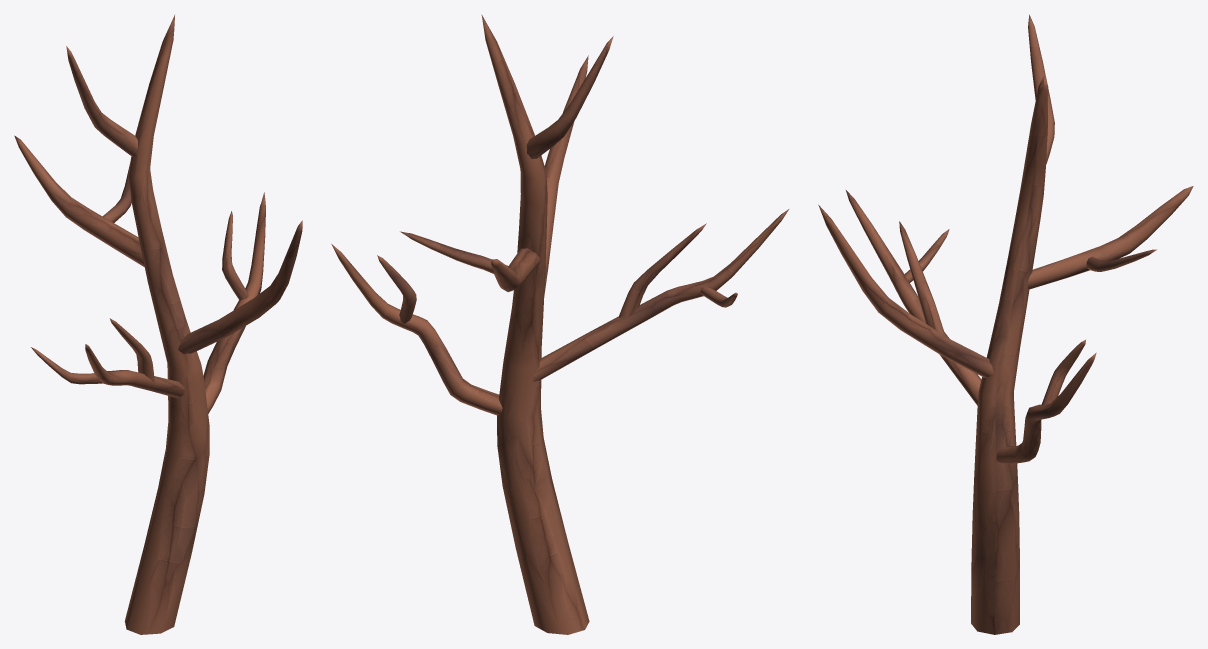
Rendered from DeadTree_5.gltf.
3 renders of one model, left to right at view 1: azimuth 30°, elevation 25°; view 2: azimuth 150°, elevation 25°; view 3: azimuth 270°, elevation 25°, orthographic. The views are drawn at different scales.
Visible parts, largest first — view 1: DeadTree_5; view 2: DeadTree_5; view 3: DeadTree_5.
Boxes of the visible parts, bbox=[...] form: DeadTree_5: bbox=[14, 15, 302, 634]; DeadTree_5: bbox=[331, 14, 788, 634]; DeadTree_5: bbox=[818, 14, 1193, 634].
Size of the model in its own units: 1.44 by 2.6 by 1.53.
1 material, 1 textured.
